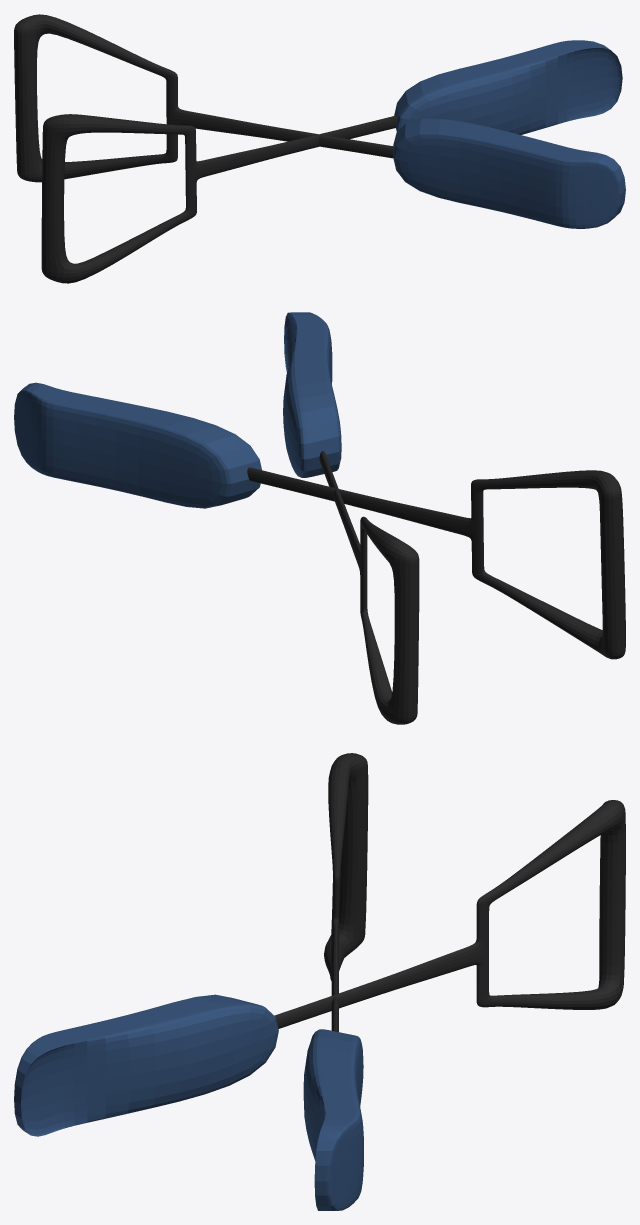
File: Collider.fbx
3 views of the same model, one above another, from view 1: azimuth 30°, elevation 25°; view 2: azimuth 150°, elevation 25°; view 3: azimuth 270°, elevation 25° (orthographic). The views are drawn at different scales.
Visible parts, largest first — view 1: Pihdit.Collider; view 2: Pihdit.Collider; view 3: Pihdit.Collider.
Part boxes in pixels (<box>): Pihdit.Collider: <box>14,14,625,283</box>; Pihdit.Collider: <box>14,312,625,724</box>; Pihdit.Collider: <box>14,753,625,1210</box>.
Size of the model in its own units: 17.24 by 4.85 by 13.39.
